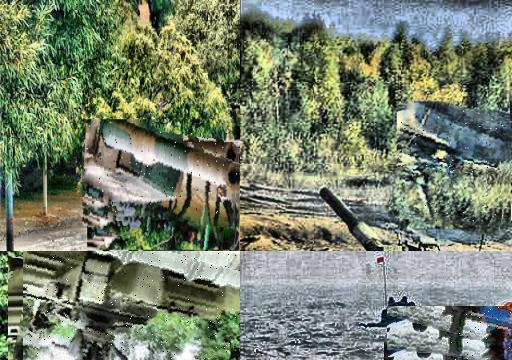tanks: (25, 252, 241, 360), (83, 121, 239, 214), (399, 103, 510, 224), (322, 189, 441, 252), (445, 307, 512, 341), (424, 307, 436, 309)
